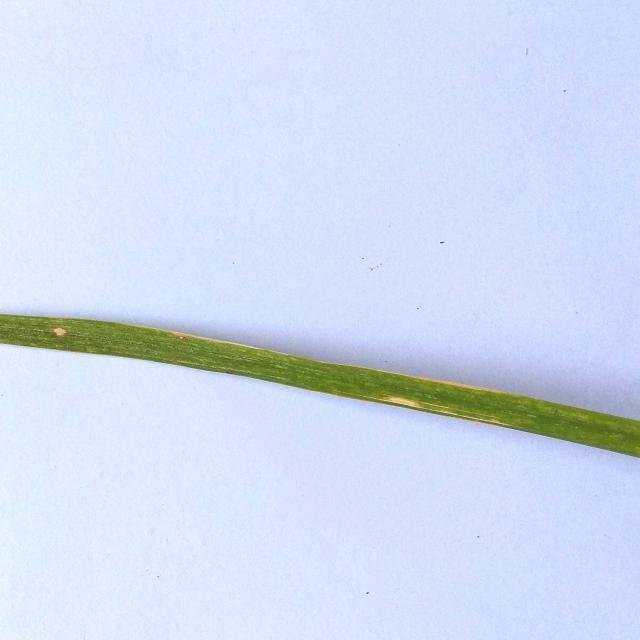Blast: (42, 322, 73, 339), (384, 396, 422, 406)
